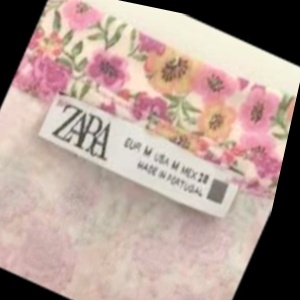zara: (93, 56, 169, 175)
